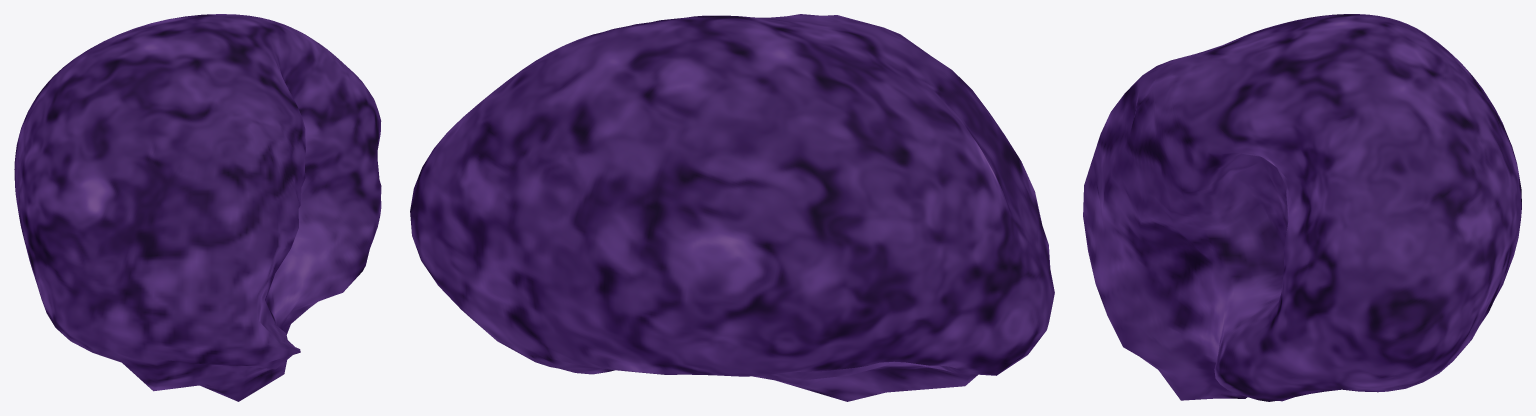
File: etacar_xray.glb
3 renders of one model, left to right at view 1: azimuth 30°, elevation 25°; view 2: azimuth 150°, elevation 25°; view 3: azimuth 270°, elevation 25°, orthographic. The views are drawn at different scales.
Visible parts, largest first — view 1: XRay_baked; view 2: XRay_baked; view 3: XRay_baked.
Boxes of the visible parts, x1,y1,x2,y2 form: XRay_baked: (14,14,381,401); XRay_baked: (410,14,1054,401); XRay_baked: (1083,14,1521,401).
Size of the model in its own units: 3.01 by 2.34 by 2.55.
Materials: 1 (1 with a texture image).
